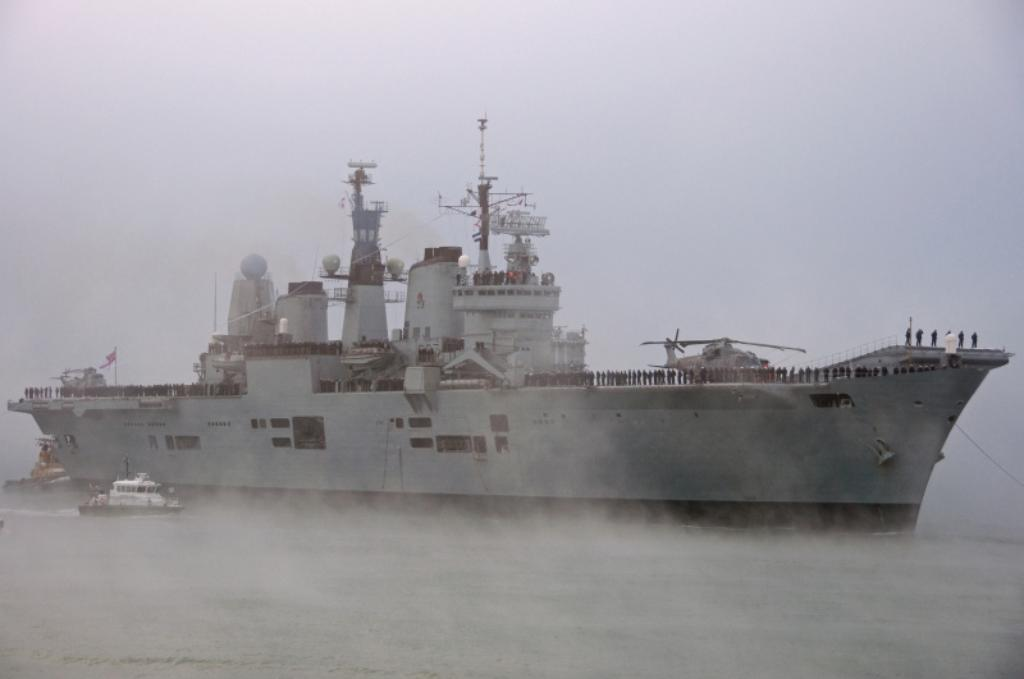Warship: (2, 121, 1020, 542)
